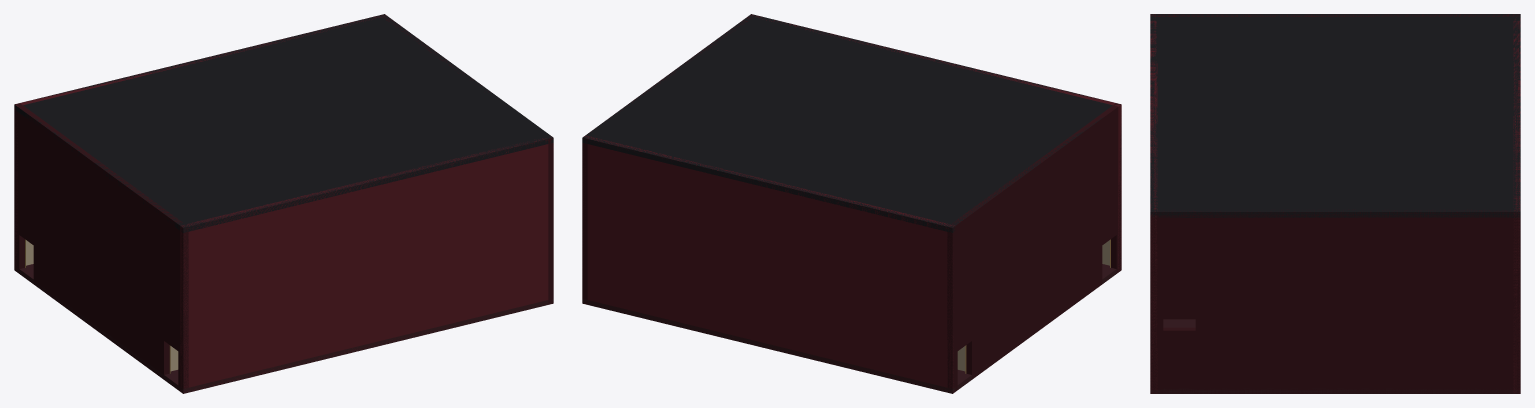
File: hallClassic.glb
The picture shows the model from 3 angles, left to right: view 1: azimuth 30°, elevation 25°; view 2: azimuth 150°, elevation 25°; view 3: azimuth 270°, elevation 25°; orthographic projection. The views are drawn at different scales.
Visible parts, largest first — view 1: hallClassic; view 2: hallClassic; view 3: hallClassic.
Part boxes in pixels (x1,y1,x2,y2): hallClassic: [14, 14, 553, 393]; hallClassic: [582, 14, 1121, 393]; hallClassic: [1150, 14, 1520, 393].
Bounding box in the file's own units: 27.34 × 11.71 × 21.6.
